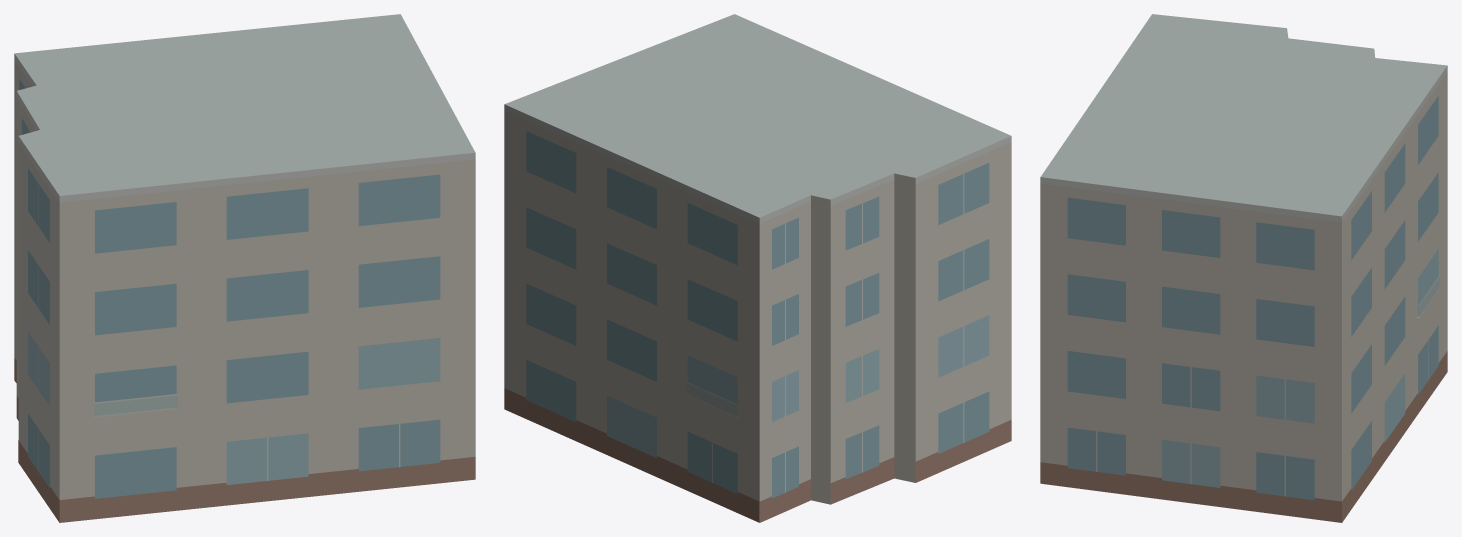
Rendered from survey-upis-32910808.glb.
3 renders of one model, left to right at view 1: azimuth 30°, elevation 25°; view 2: azimuth 150°, elevation 25°; view 3: azimuth 270°, elevation 25°, orthographic. The views are drawn at different scales.
Parts seen in each view (by area): view 1: survey-upis-32910808.tmp; view 2: survey-upis-32910808.tmp; view 3: survey-upis-32910808.tmp.
Part boxes in pixels (x1=…): survey-upis-32910808.tmp: x1=14, y1=14, x2=475, y2=522; survey-upis-32910808.tmp: x1=504, y1=14, x2=1011, y2=522; survey-upis-32910808.tmp: x1=1040, y1=14, x2=1447, y2=522.
Size of the model in its own units: 17.28 by 12.2 by 14.7.
